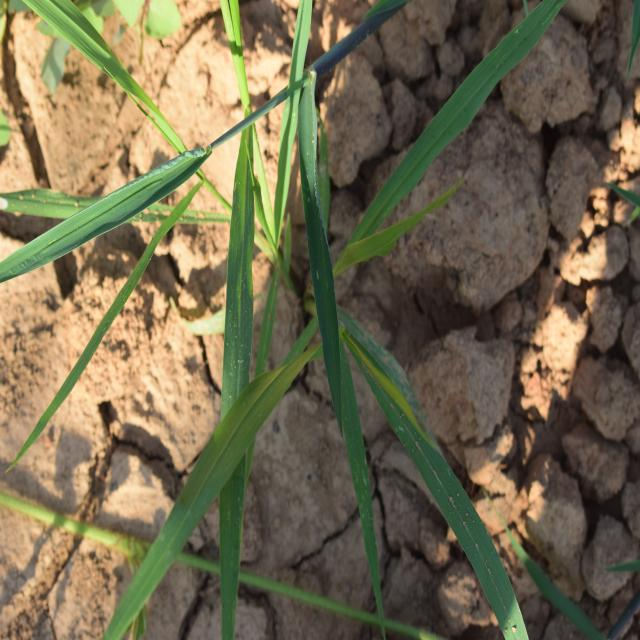green_foxtail: (142, 30, 514, 598)
